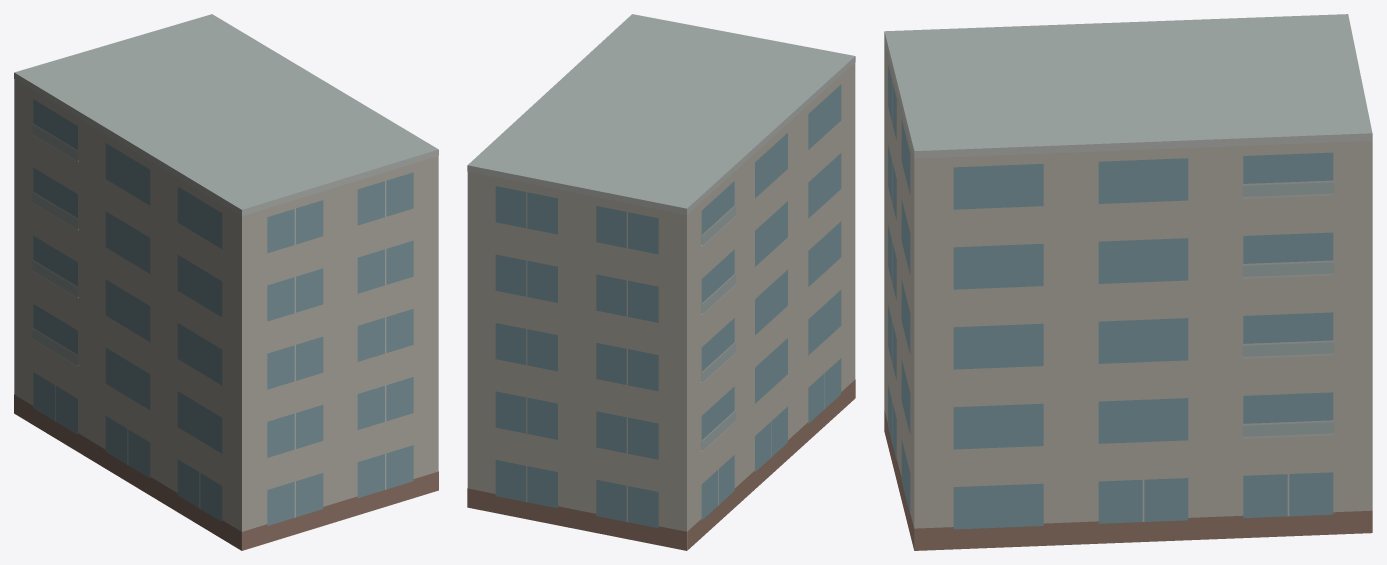
Rendered from survey-upis-32885103.glb.
3 renders of one model, left to right at view 1: azimuth 30°, elevation 25°; view 2: azimuth 150°, elevation 25°; view 3: azimuth 270°, elevation 25°, orthographic. The views are drawn at different scales.
Parts seen in each view (by area): view 1: survey-upis-32885103.tmp; view 2: survey-upis-32885103.tmp; view 3: survey-upis-32885103.tmp.
Boxes of the visible parts, bbox=[...] form: survey-upis-32885103.tmp: bbox=[14, 14, 438, 550]; survey-upis-32885103.tmp: bbox=[467, 14, 855, 550]; survey-upis-32885103.tmp: bbox=[884, 14, 1372, 550].
Size of the model in its own units: 9.65 by 13.1 by 14.51.
